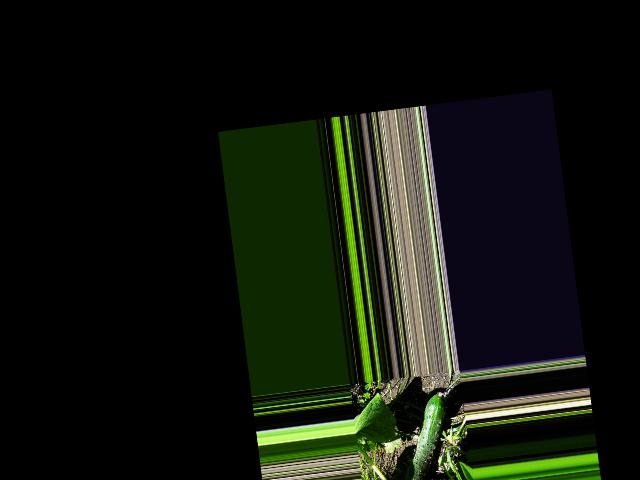cucumber: (394, 392, 456, 480)
